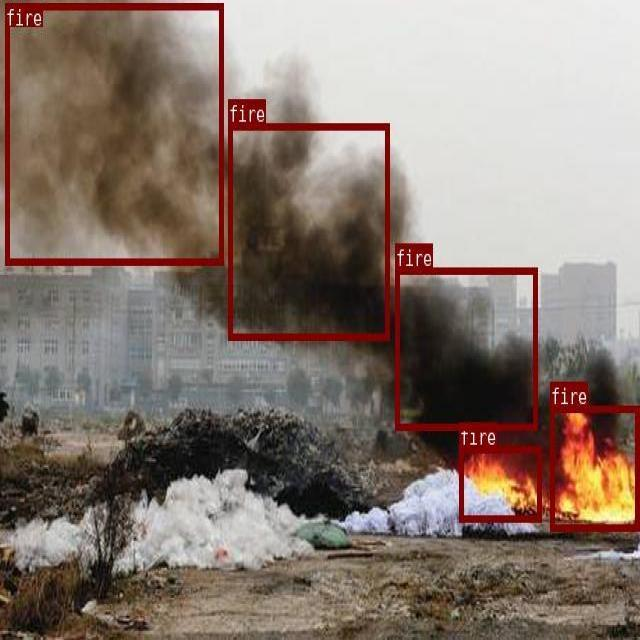fire: (5, 2, 223, 264), (228, 122, 389, 338), (395, 267, 537, 429), (550, 406, 638, 529), (459, 445, 540, 521)
